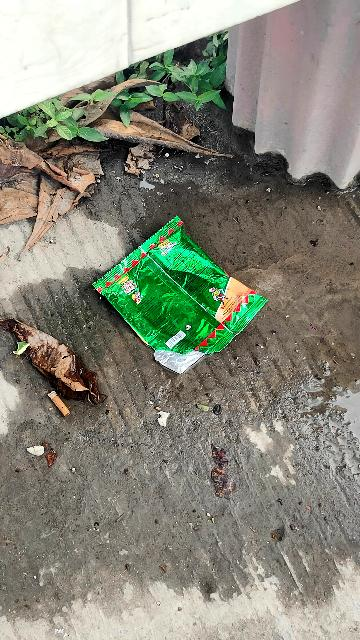packet: (95, 227, 271, 374)
